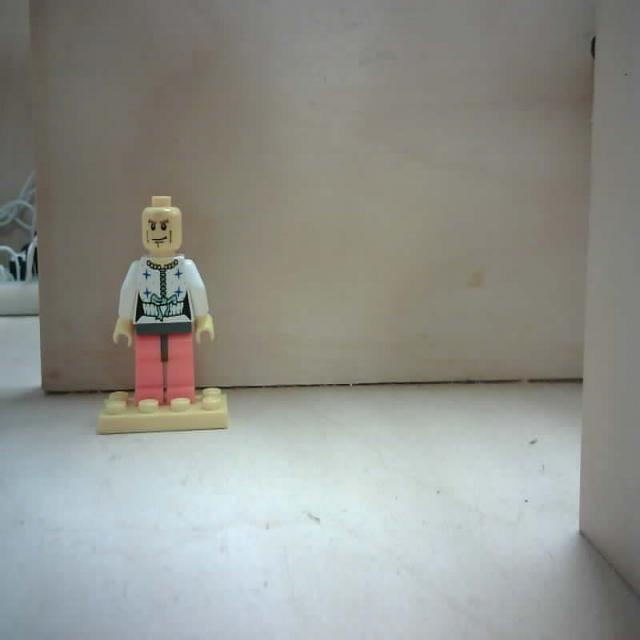Lego-People: (98, 196, 227, 438)
